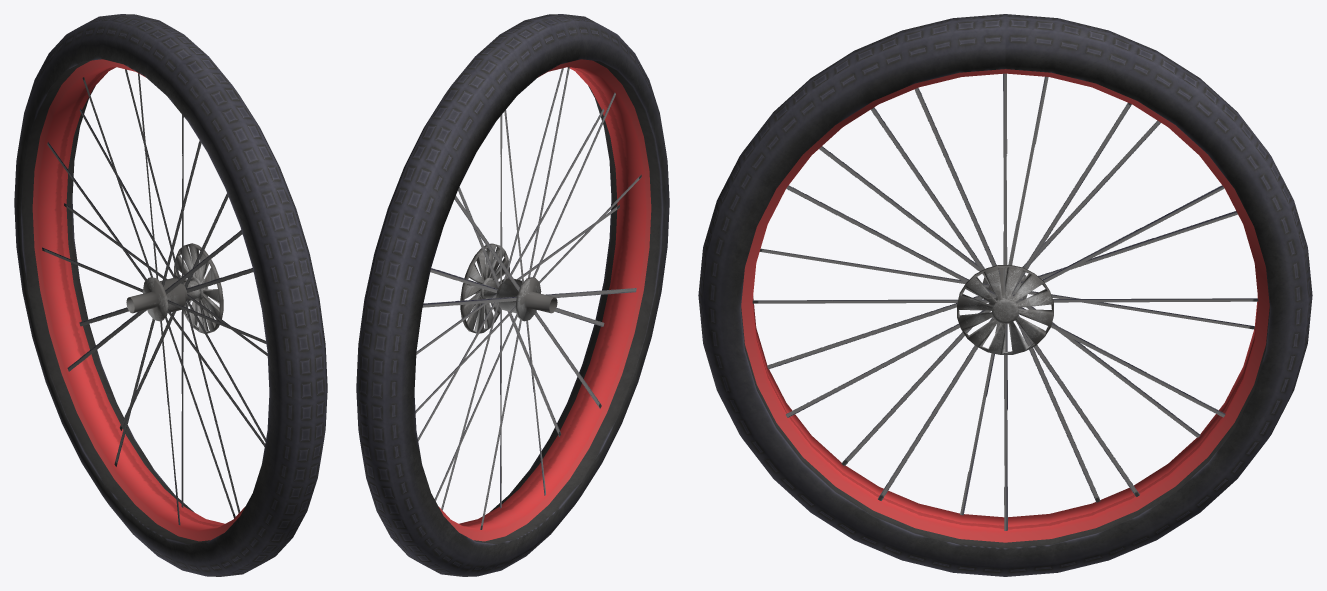
The model's file is whe_#1_delantera_izquierda.fbx.
The picture shows the model from 3 angles, left to right: view 1: azimuth 30°, elevation 25°; view 2: azimuth 150°, elevation 25°; view 3: azimuth 270°, elevation 25°; orthographic projection. The views are drawn at different scales.
Visible parts, largest first — view 1: whe_#1_delantera_izquierda; view 2: whe_#1_delantera_izquierda; view 3: whe_#1_delantera_izquierda.
Boxes of the visible parts, bbox=[...] form: whe_#1_delantera_izquierda: bbox=[14, 14, 327, 576]; whe_#1_delantera_izquierda: bbox=[356, 14, 669, 576]; whe_#1_delantera_izquierda: bbox=[698, 14, 1312, 576].
Size of the model in its own units: 11.78 by 81.32 by 81.32.
